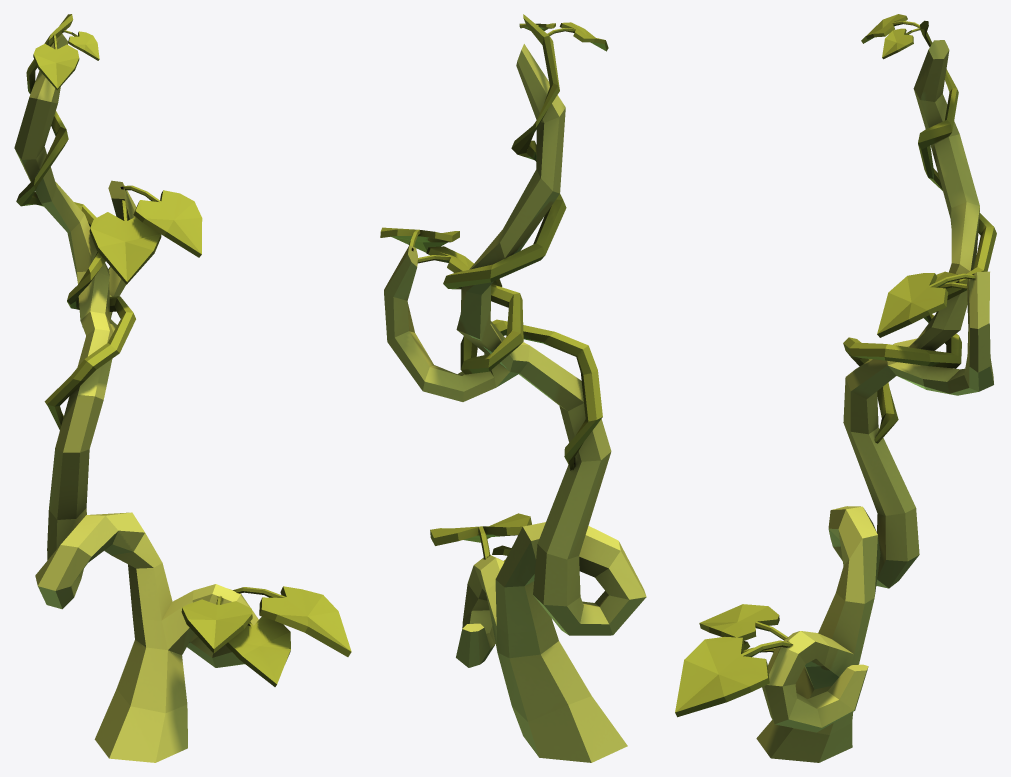
Rendered from PUSHILIN_Beanstalk.obj.
3 views of the same model, side by side, from view 1: azimuth 30°, elevation 25°; view 2: azimuth 150°, elevation 25°; view 3: azimuth 270°, elevation 25° (orthographic). The views are drawn at different scales.
Parts seen in each view (by area): view 1: Beanstalk; view 2: Beanstalk; view 3: Beanstalk.
Boxes of the visible parts, x1,y1,x2,y2 form: Beanstalk: [14, 14, 351, 762]; Beanstalk: [380, 14, 646, 762]; Beanstalk: [675, 14, 996, 762].
Size of the model in its own units: 1.12 by 3.06 by 1.25.
1 material, 1 textured.
